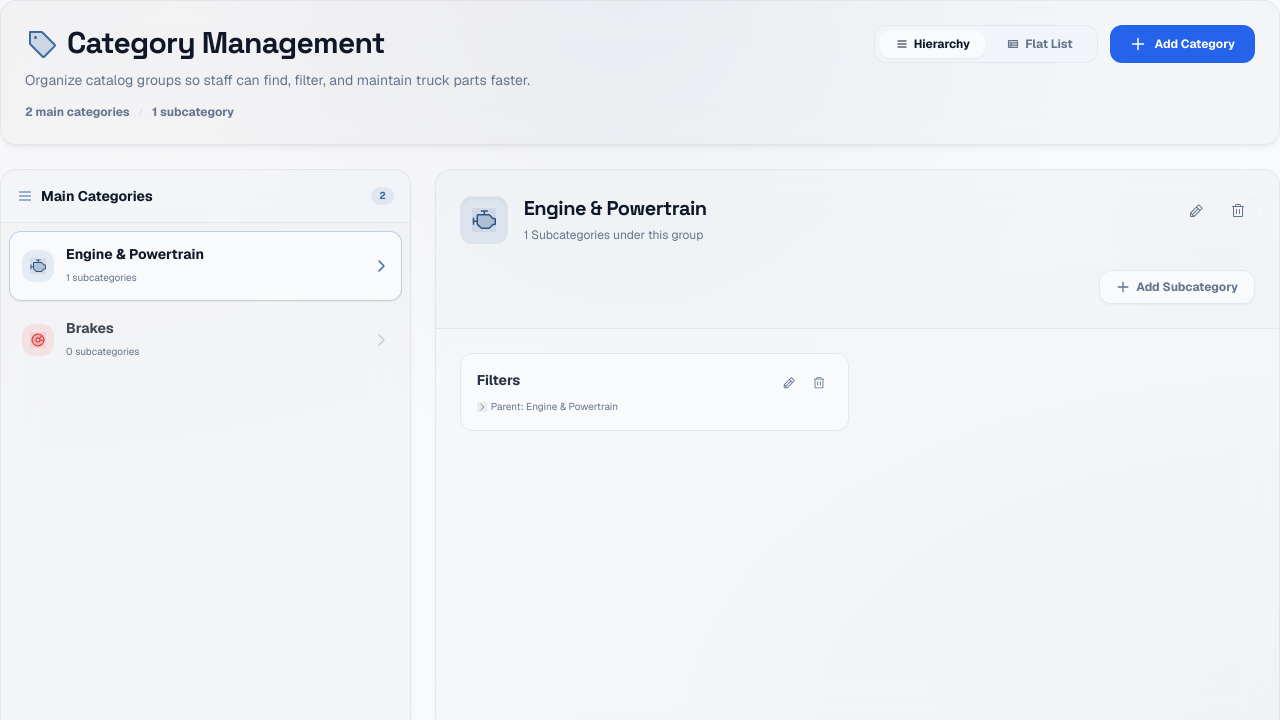
Scenario: CategoryManagement › shows an error before saving when the category name already exists
This screenshot has width=1280, height=720.
Step 1. Click the button "Add Category" → (1183, 44), box top-left (1110, 25), bottom-right (1255, 63)
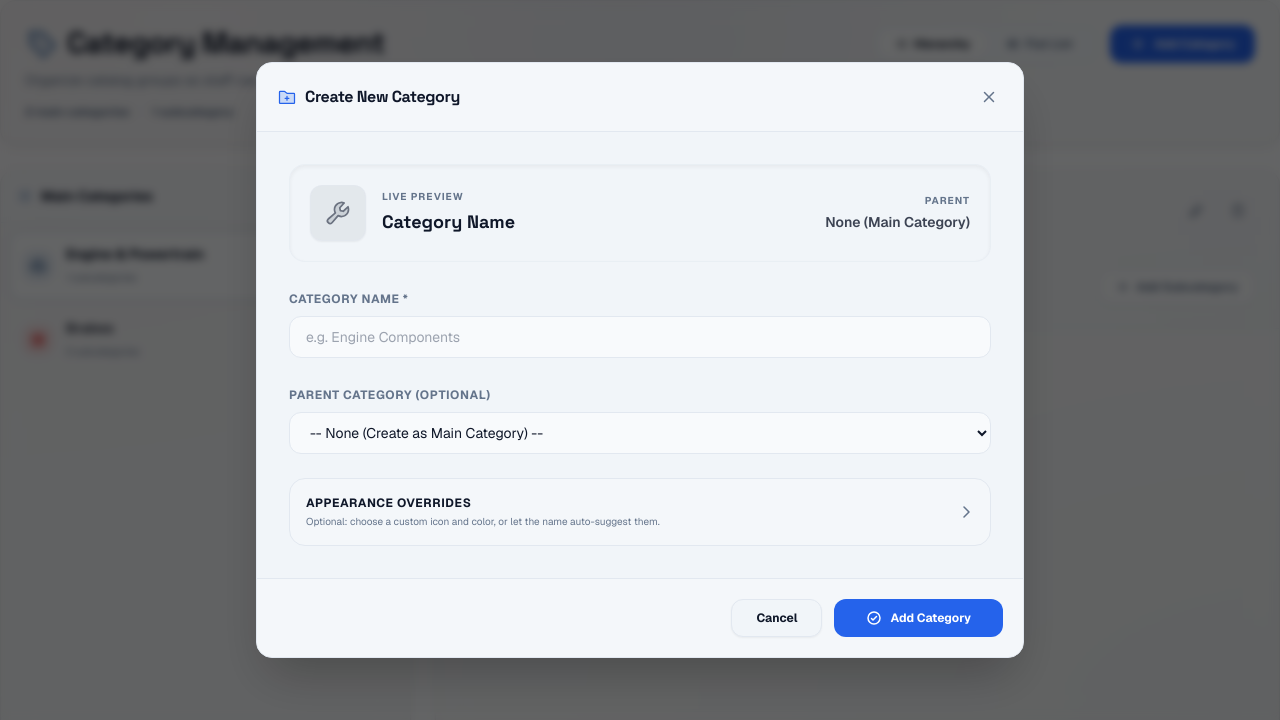
Step 2. Type "Engine & Powertrain" into the field labelled "Category Name *" → (640, 337), box top-left (289, 316), bottom-right (991, 358)
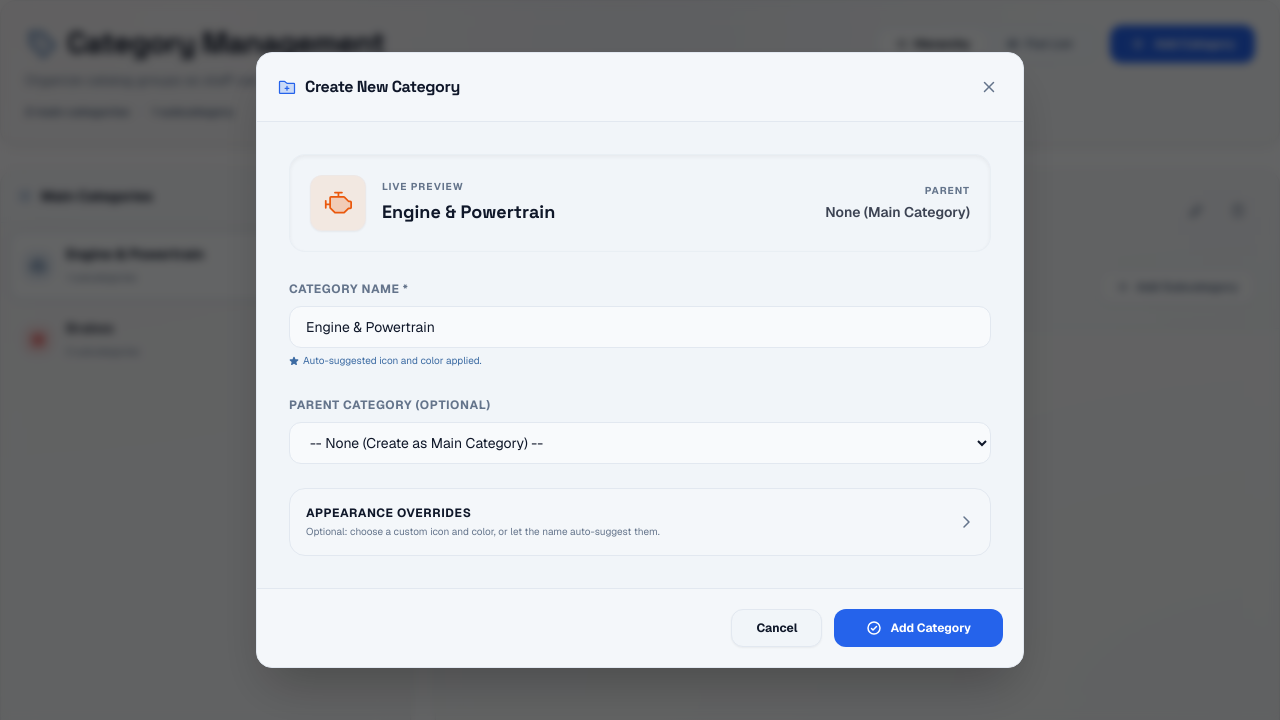
Step 3. Click the button "Add Category" → (919, 628), box top-left (834, 609), bottom-right (1003, 647)
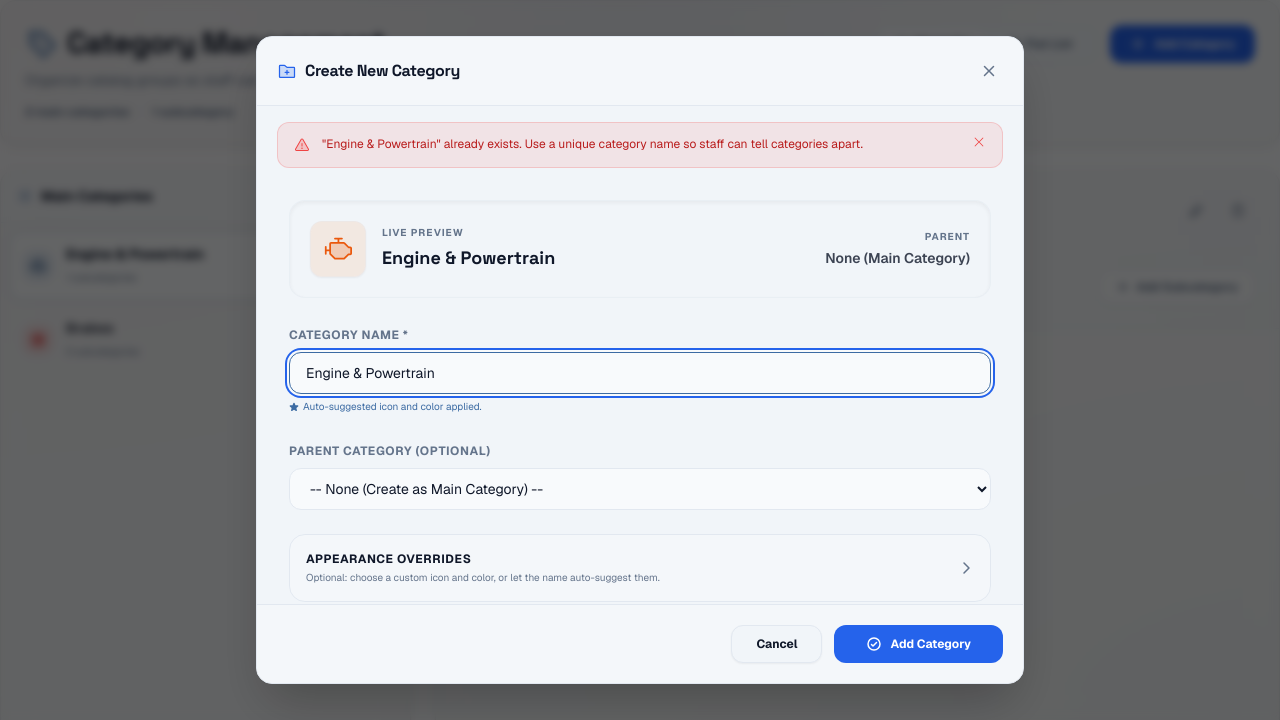
expect the message shows "already exists": met, box top-left (322, 136), bottom-right (863, 152)
